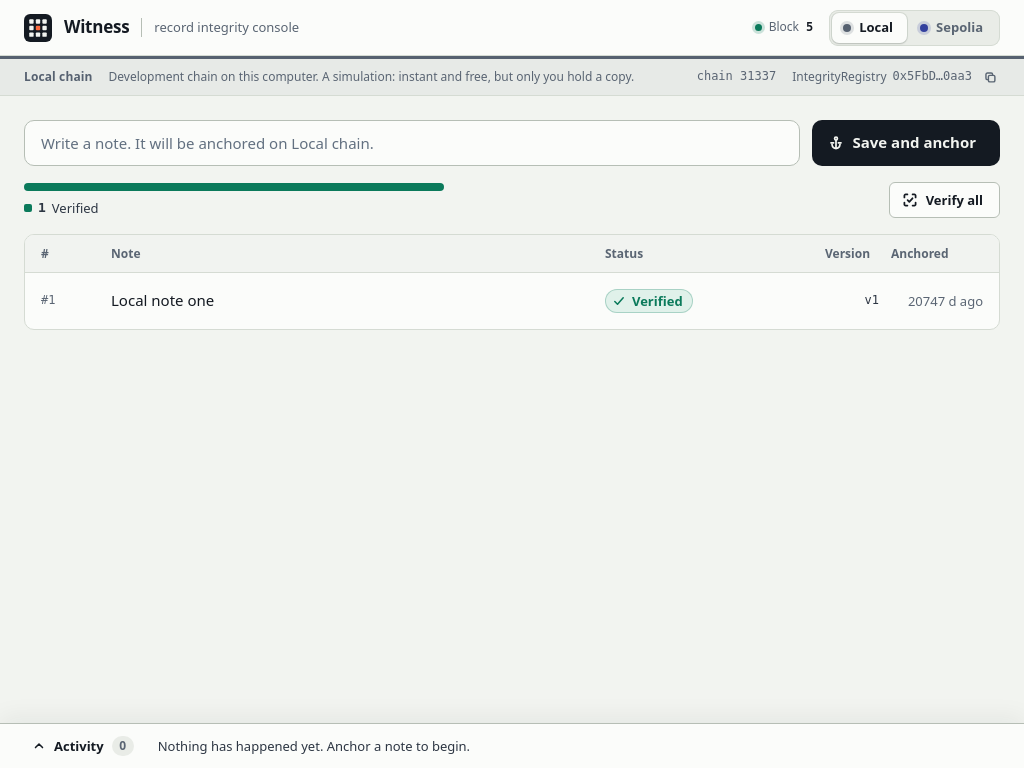
Test: App › does not carry a finished write from one network into another
Expected: the text "Local note one" is shown, [111,290,214,310]
Type "A second note" into the field named "New note".
click(412, 143); type("A second note")  # box [24,120,800,166]
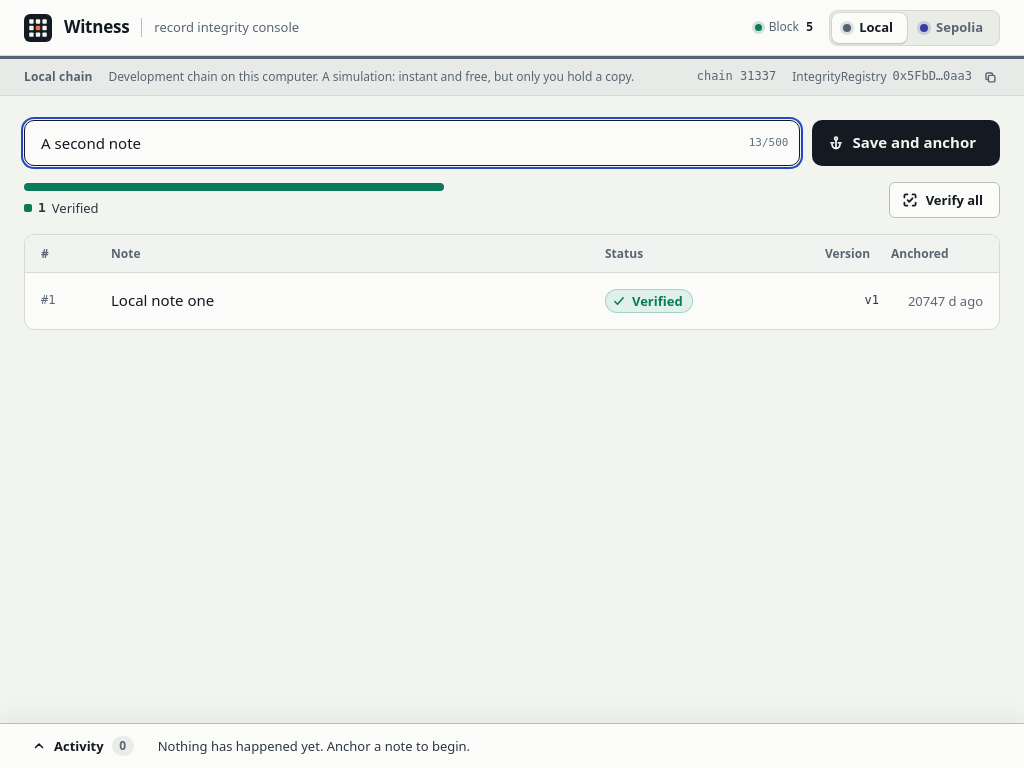
Click the button "Save and anchor".
click(906, 143)  # box [812,120,1000,166]
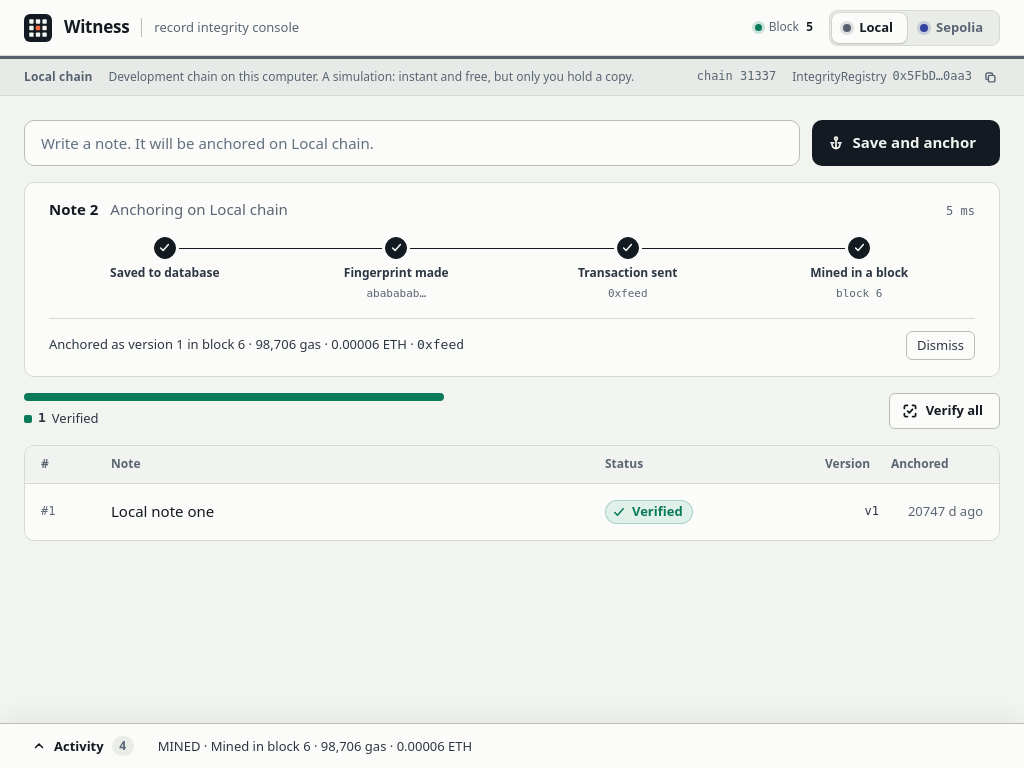
Expected: the text "Anchoring on Local chain" is shown, [110,199,288,221]
Click the radio button labelled "Sepolia".
click(953, 28)  # box [909,12,997,42]
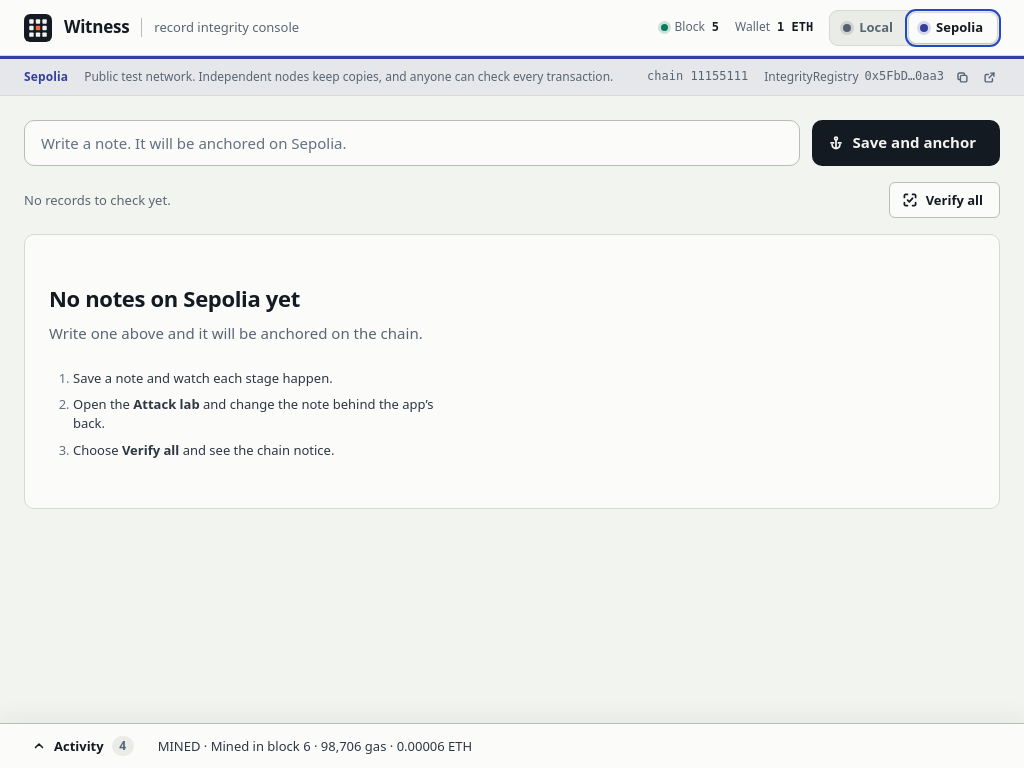
Expected: the text "Local note one" is gone
